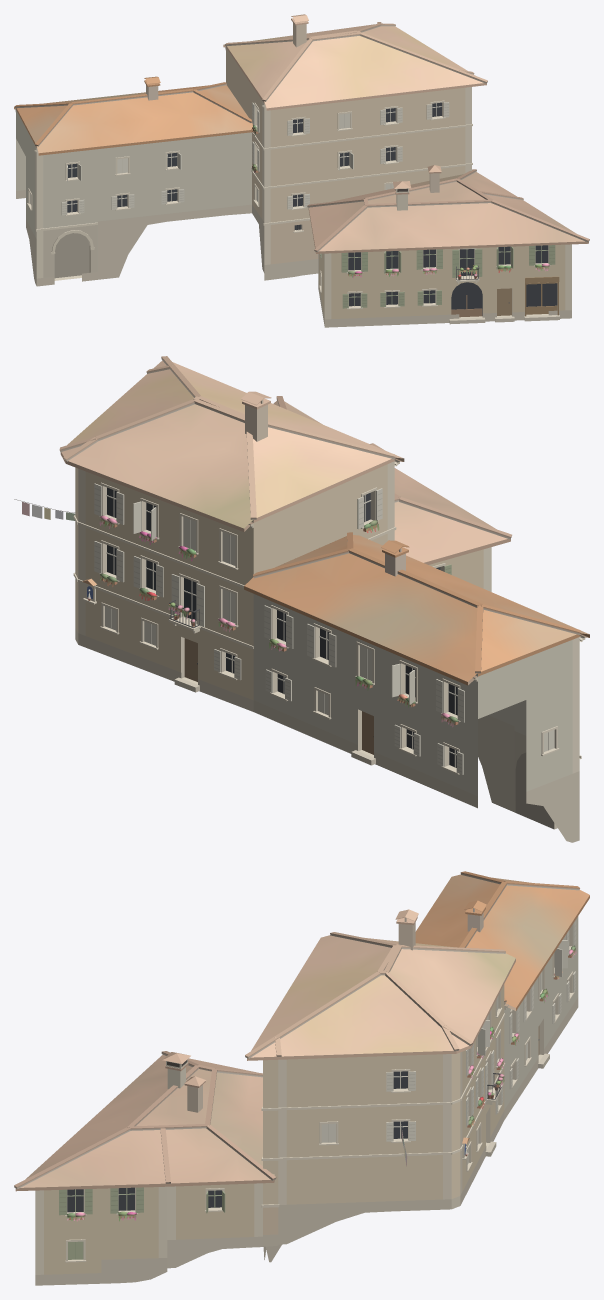
Rendered from SM_BM_BT_blk_38.glb.
3 renders of one model, top to bottom at view 1: azimuth 30°, elevation 25°; view 2: azimuth 150°, elevation 25°; view 3: azimuth 270°, elevation 25°, orthographic. The views are drawn at different scales.
Parts seen in each view (by area): view 1: SM_BM_BT_blk_38; view 2: SM_BM_BT_blk_38; view 3: SM_BM_BT_blk_38.
Boxes of the visible parts, x1=… form: SM_BM_BT_blk_38: x1=14, y1=14, x2=589, y2=327; SM_BM_BT_blk_38: x1=14, y1=356, x2=589, y2=842; SM_BM_BT_blk_38: x1=14, y1=871, x2=589, y2=1285.
Size of the model in its own units: 35.12 by 18.7 by 33.38.
